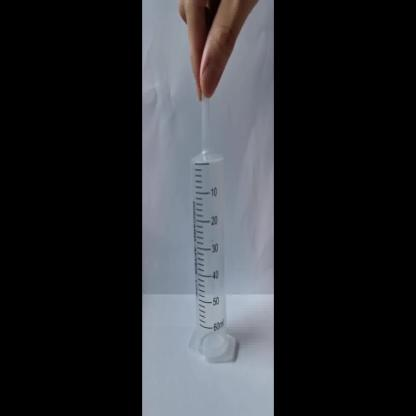dry: (183, 102, 242, 369)
